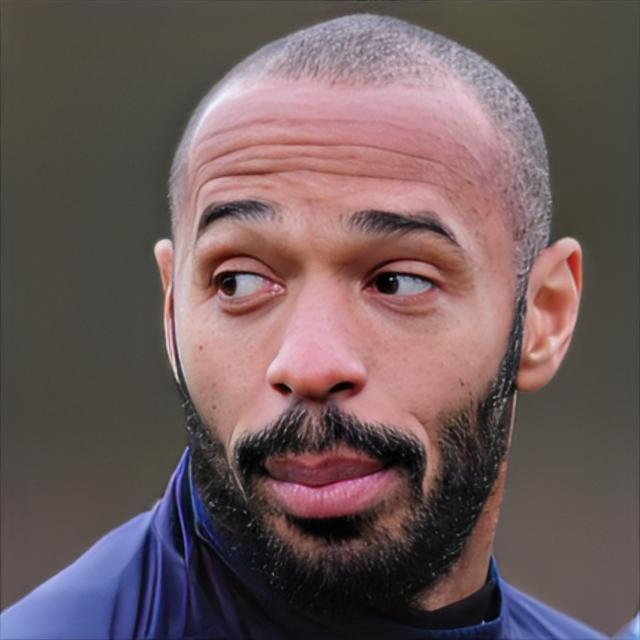surprise: (165, 92, 516, 606)
